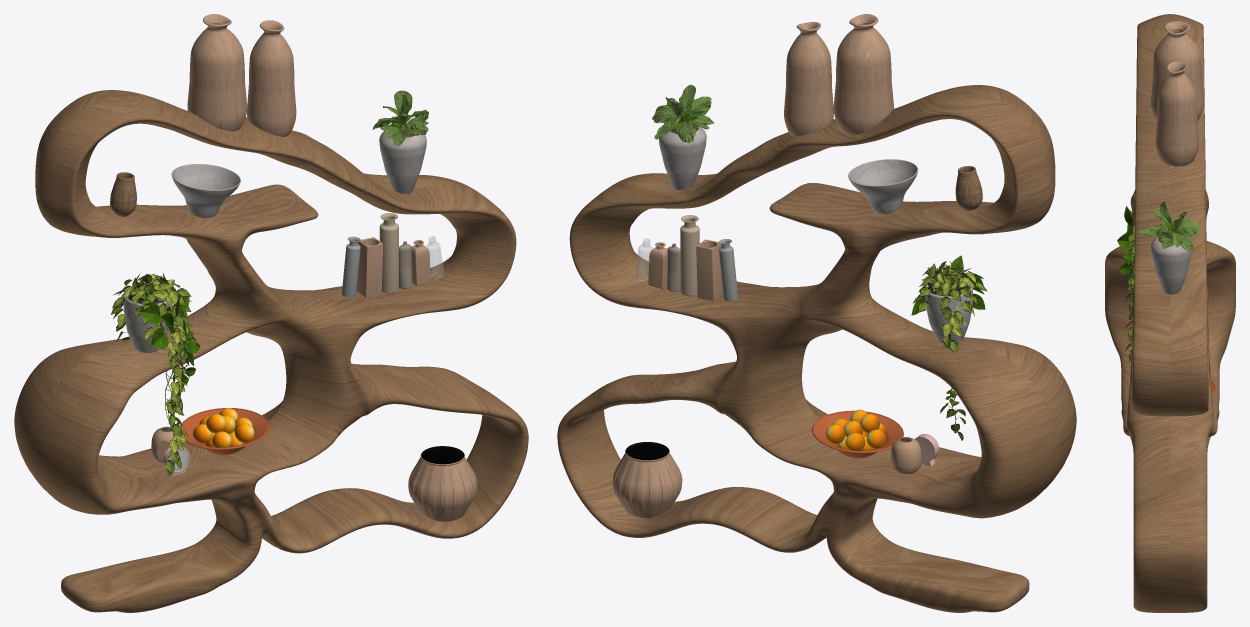
3 views of the same model, side by side, from view 1: azimuth 30°, elevation 25°; view 2: azimuth 150°, elevation 25°; view 3: azimuth 270°, elevation 25° (orthographic). The views are drawn at different scales.
Parts seen in each view (by area): view 1: Cube, Cylinder.009, Plant1, Cylinder.003, Cylinder, Plant2, Cylinder.001, Cylinder.007, Cylinder.008; view 2: Cube, Cylinder.009, Cylinder.003, Plant1, Cylinder, Plant2, Cylinder.001, Cylinder.007, Cylinder.008, Cylinder.002; view 3: Cube, Cylinder.009, Plant2, Plant1.
Boxes of the visible parts, box(x1,y1,x2,y2) form: Cube: box(14, 90, 528, 612); Cylinder.009: box(187, 14, 296, 136); Plant1: box(111, 273, 200, 474); Cylinder.003: box(341, 213, 443, 297); Cylinder: box(408, 446, 477, 521); Plant2: box(372, 90, 428, 194); Cylinder.001: box(180, 407, 269, 455); Cylinder.007: box(171, 164, 240, 218); Cylinder.008: box(110, 172, 136, 216); Cube: box(557, 85, 1076, 612); Cylinder.009: box(784, 14, 893, 136); Cylinder.003: box(635, 215, 737, 300); Plant1: box(911, 255, 987, 440); Cylinder: box(612, 442, 682, 518); Plant2: box(652, 84, 714, 189); Cylinder.001: box(812, 409, 903, 458); Cylinder.007: box(848, 159, 918, 213); Cylinder.008: box(955, 166, 982, 210); Cylinder.002: box(890, 437, 921, 474); Cube: box(1105, 14, 1235, 612); Cylinder.009: box(1150, 21, 1203, 166); Plant2: box(1139, 201, 1200, 294); Plant1: box(1117, 206, 1134, 361).
Size of the model in its own units: 2.22 by 2.48 by 0.6015.
Materials: 21 (15 with a texture image).
